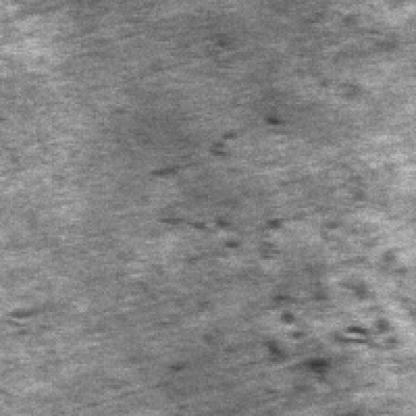rolled-in_scale: (162, 117, 285, 266), (268, 262, 410, 379)
